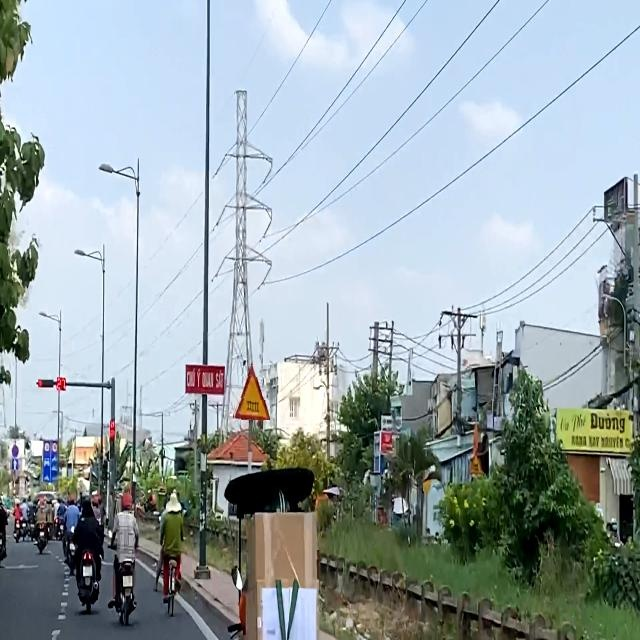bien_nguy_hiem: (232, 363, 270, 420)
